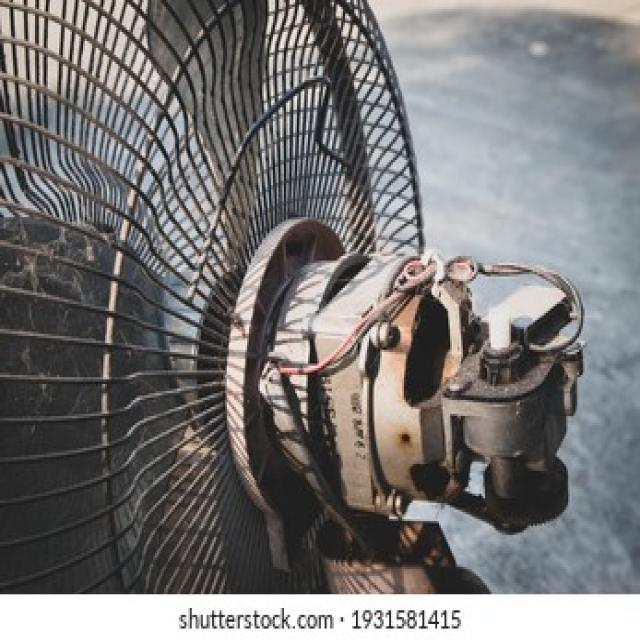fans: (279, 251, 579, 373)
